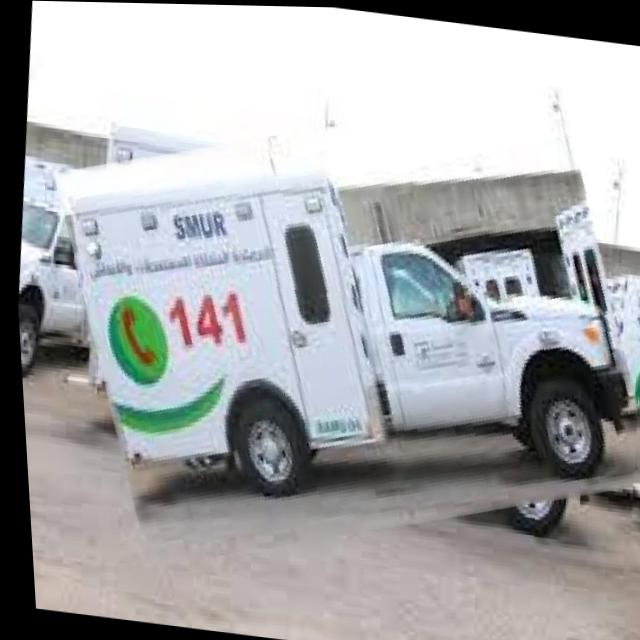ambulance: (33, 57, 640, 592)
